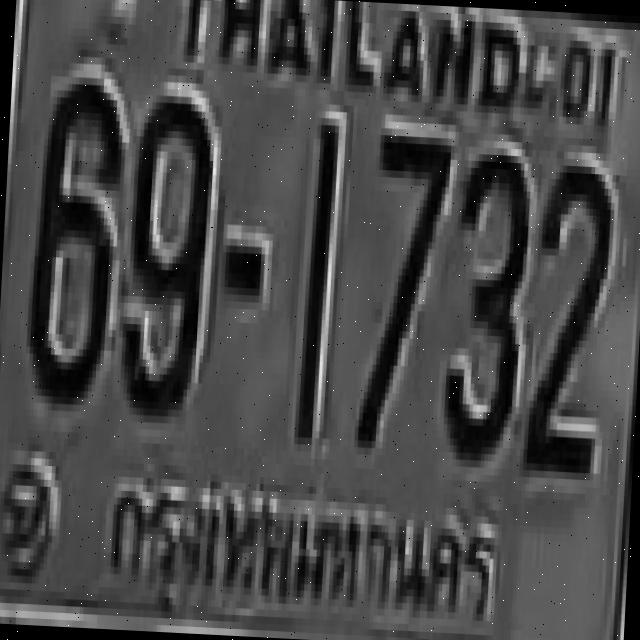1: (294, 118, 336, 438)
2: (519, 157, 613, 474)
3: (438, 146, 528, 455)
6: (23, 72, 122, 403)
7: (354, 127, 448, 444)
9: (115, 88, 214, 412)
Bangkok: (98, 460, 500, 640)
